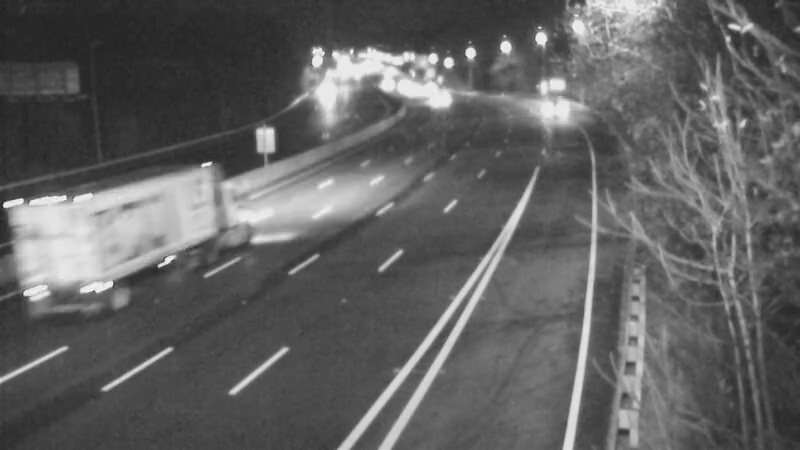vehicle: (34, 213, 114, 293), (413, 73, 463, 123), (529, 81, 579, 131), (303, 66, 353, 116)
